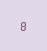eight: (19, 19, 25, 31)
